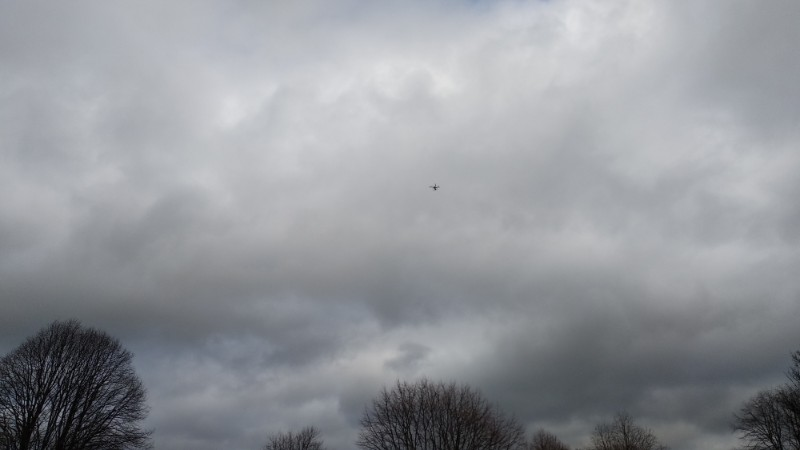drone: (429, 182, 439, 191)
